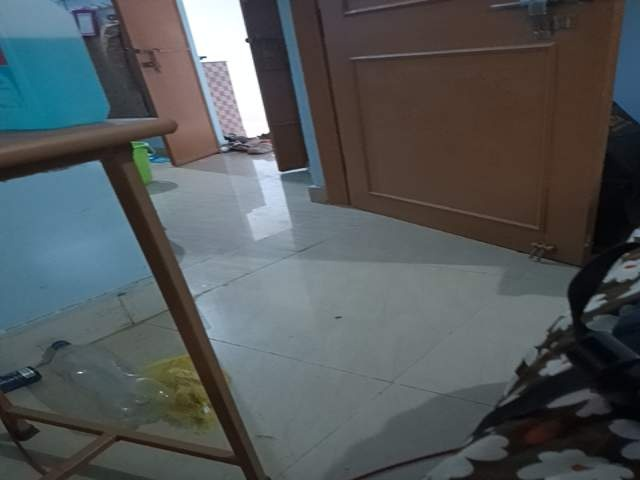pothole: (535, 403, 640, 480)
